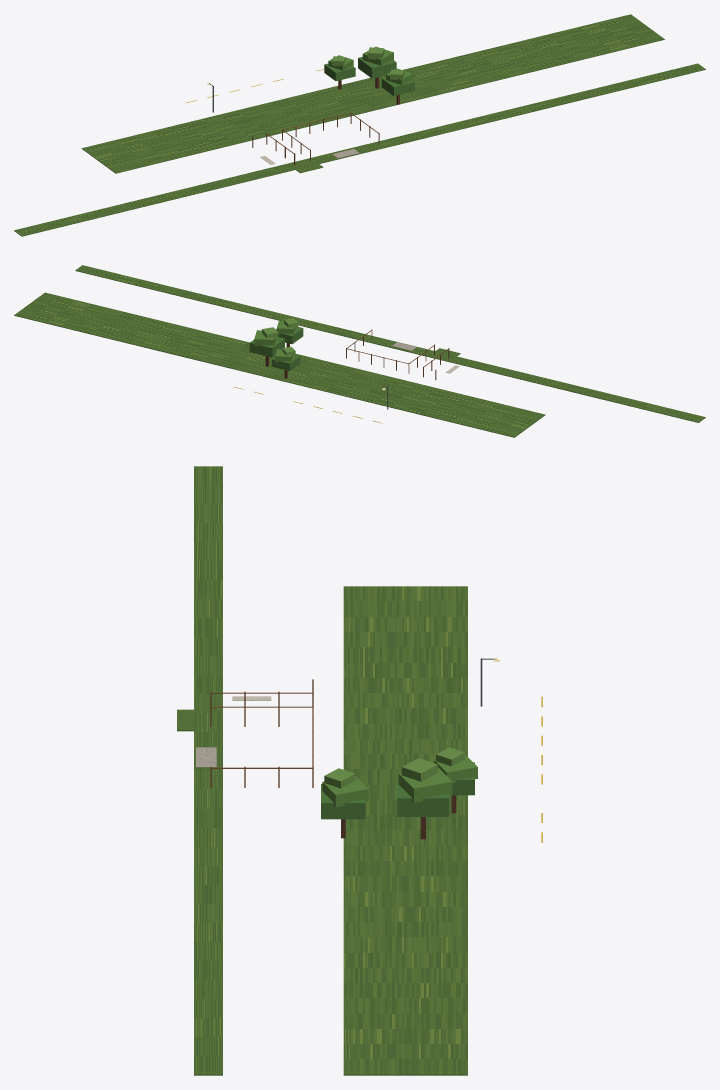
Rendered from structure.glb.
3 renders of one model, top to bottom at view 1: azimuth 30°, elevation 25°; view 2: azimuth 150°, elevation 25°; view 3: azimuth 270°, elevation 25°, orthographic. The views are drawn at different scales.
Visible parts, largest first — view 1: Box2, Box3, Box1, Box40, Box44, Box48; view 2: Box2, Box3, Box1, Box40, Box48; view 3: Box2, Box3, Box1, Box40, Box41.
Part boxes in pixels (x1,y1,x2,y2): Box2: [81, 14, 662, 171]; Box3: [14, 63, 705, 236]; Box1: [114, 38, 664, 173]; Box40: [358, 57, 396, 78]; Box44: [381, 77, 414, 95]; Box48: [324, 63, 355, 80]; Box2: [14, 294, 543, 437]; Box3: [75, 265, 705, 422]; Box1: [43, 292, 545, 415]; Box40: [249, 337, 284, 357]; Box48: [271, 355, 300, 370]; Box2: [350, 586, 467, 1075]; Box3: [194, 466, 222, 1075]; Box1: [343, 586, 350, 1075]; Box40: [397, 776, 448, 816]; Box41: [398, 767, 452, 802].
Size of the model in its own units: 126 by 6.89 by 31.91.
Materials: 11 (3 with a texture image).
